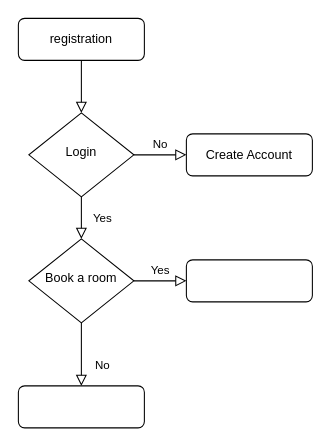
The diagram is 331 pixels wide and 446 high, and some of its shapes have lost their labels. The shapes that lost their labels are listed below. From the top down, each one's centre as x and y in pixels, then its label:
point (248, 280): Your Booking Sucessful
point (80, 406): Contact
